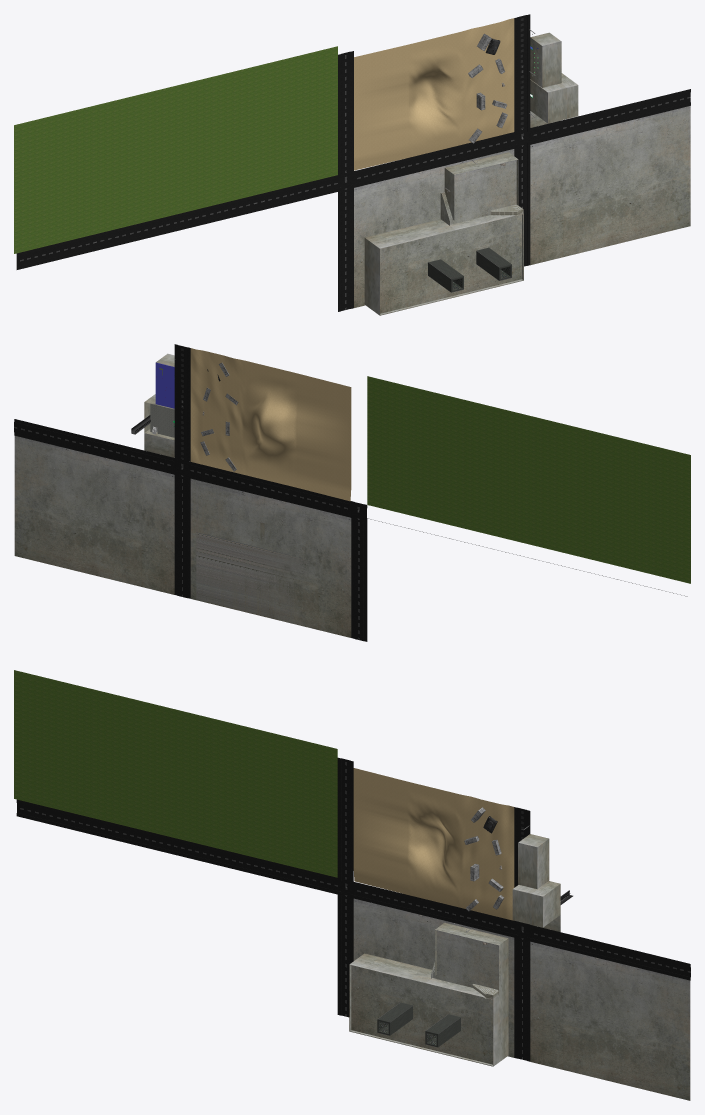
The model's file is street.obj.
3 views of the same model, one above another, from view 1: azimuth 30°, elevation 25°; view 2: azimuth 150°, elevation 25°; view 3: azimuth 330°, elevation 25° (orthographic).
Parts seen in each view (by area): view 1: Plan007, Plan006, Objet050, ground0, Boite03, Plan004, Boe01, Boe03, containers, Boite05, Boite04; view 2: Plan007, Plan006, ground0, Plan004, Objet050, Boite03, Bo_te02, Objet14, Plan005, containers; view 3: Plan007, Plan006, Objet050, ground0, Boite03, Plan004, Boe01, Boe03, Boite04, Boite05, containers.
Part boxes in pixels (x1,y1,x2,y2): Plan007: (14, 46, 337, 253); Plan006: (530, 106, 690, 265); Objet050: (16, 14, 690, 311); ground0: (354, 18, 514, 170); Boite03: (364, 152, 523, 315); Plan004: (354, 149, 514, 307); Boe01: (530, 73, 578, 123); Boe03: (530, 32, 561, 87); containers: (468, 33, 507, 143); Boite05: (428, 259, 463, 292); Boite04: (476, 247, 511, 280); Plan007: (367, 376, 690, 583); Plan006: (14, 436, 174, 594); ground0: (190, 348, 351, 501); Plan004: (190, 478, 351, 637); Objet050: (14, 344, 687, 641); Boite03: (196, 482, 314, 626); Bo_te02: (155, 362, 174, 408); Objet14: (150, 403, 174, 437); Plan005: (144, 433, 174, 457); containers: (200, 362, 238, 471); Plan007: (14, 670, 337, 877); Plan006: (530, 941, 690, 1100); Objet050: (16, 757, 690, 1061); ground0: (353, 768, 514, 920); Boite03: (349, 922, 508, 1066); Plan004: (353, 898, 514, 1057); Boe01: (512, 881, 560, 927); Boe03: (518, 834, 549, 889); Boite04: (425, 1014, 460, 1047); Boite05: (377, 1002, 412, 1035); containers: (464, 807, 503, 911).
Size of the model in its own units: 423 by 159 by 54.69.
